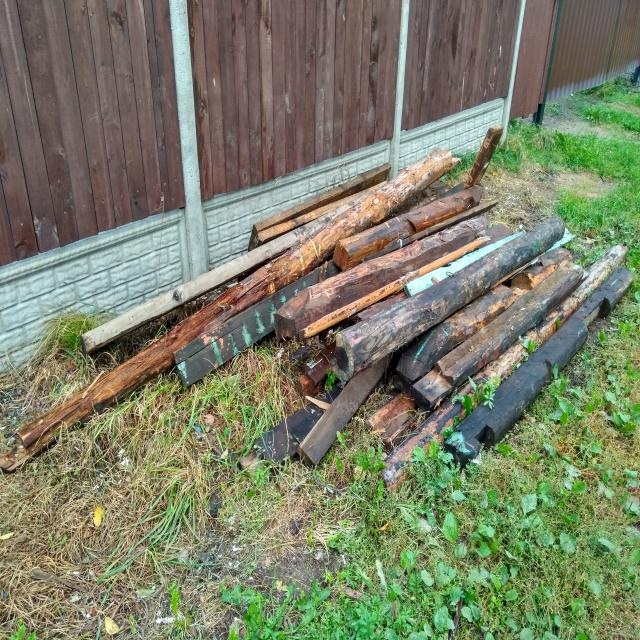entulho: (244, 144, 498, 358), (414, 246, 604, 464), (282, 347, 464, 471), (2, 383, 120, 472), (85, 283, 201, 351), (180, 308, 256, 386), (237, 407, 312, 480), (573, 264, 637, 336), (188, 243, 278, 294), (103, 333, 172, 398), (497, 214, 564, 266), (571, 242, 628, 301), (464, 124, 504, 193)
